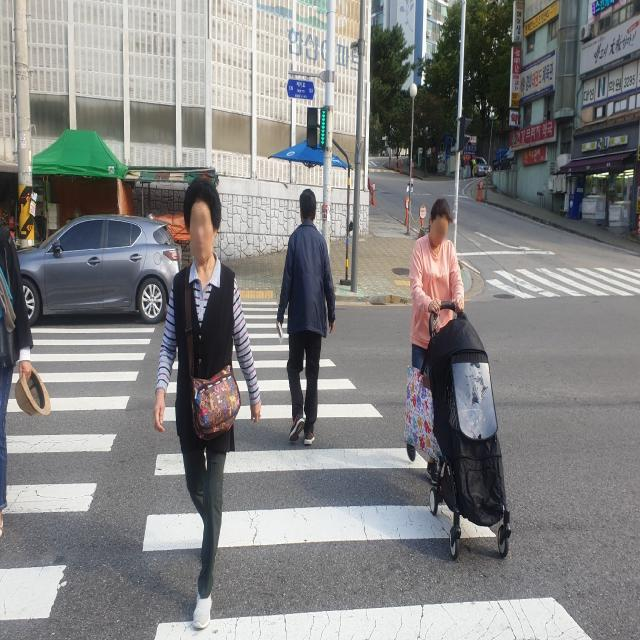초록불: (306, 105, 327, 151)
횡단보도: (0, 294, 598, 637)
